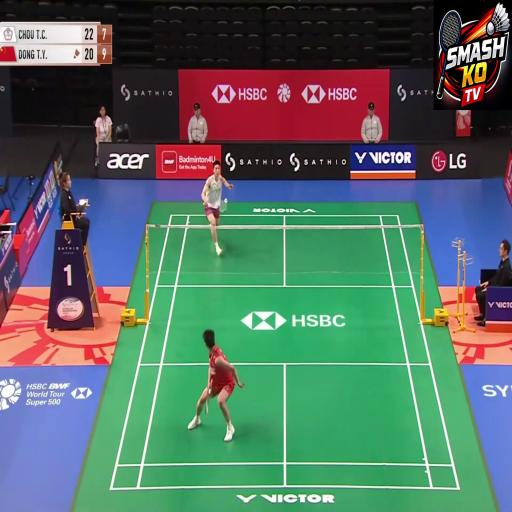player: (196, 301, 242, 464), (191, 155, 247, 281)
